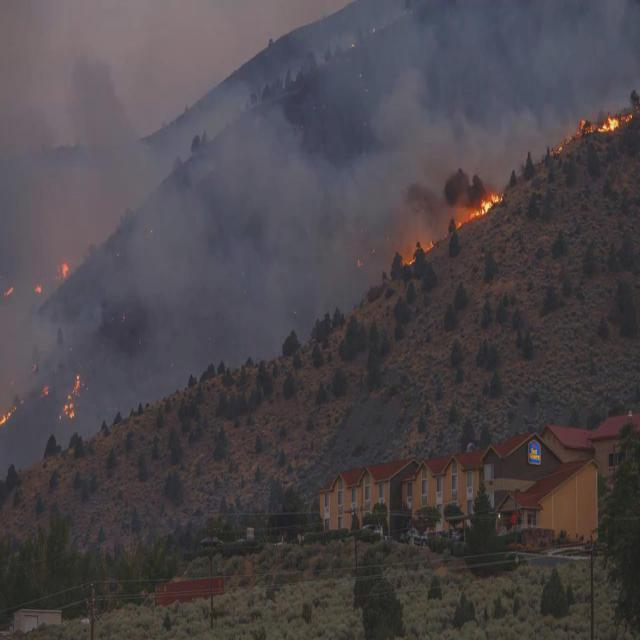Fire: (456, 190, 502, 228), (58, 373, 82, 418), (595, 118, 618, 132), (1, 407, 15, 428), (62, 260, 70, 278), (405, 256, 415, 268), (578, 116, 584, 134), (6, 282, 14, 294), (426, 240, 434, 252), (35, 282, 43, 292)
